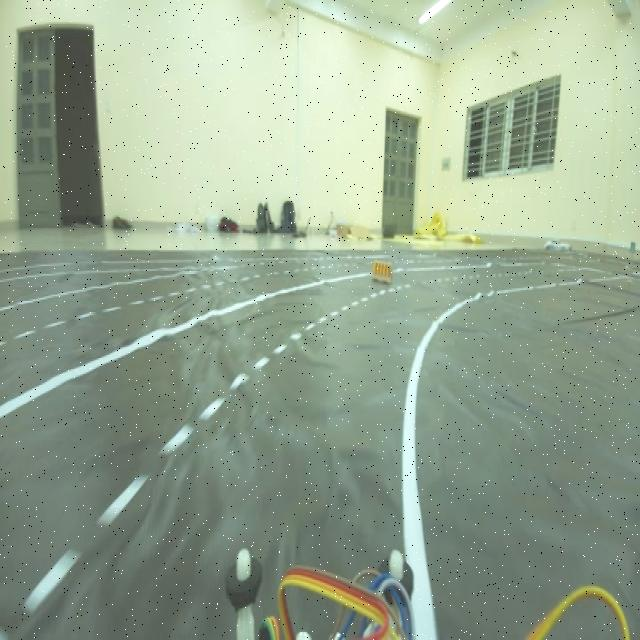roadblock: (369, 255, 395, 287)
